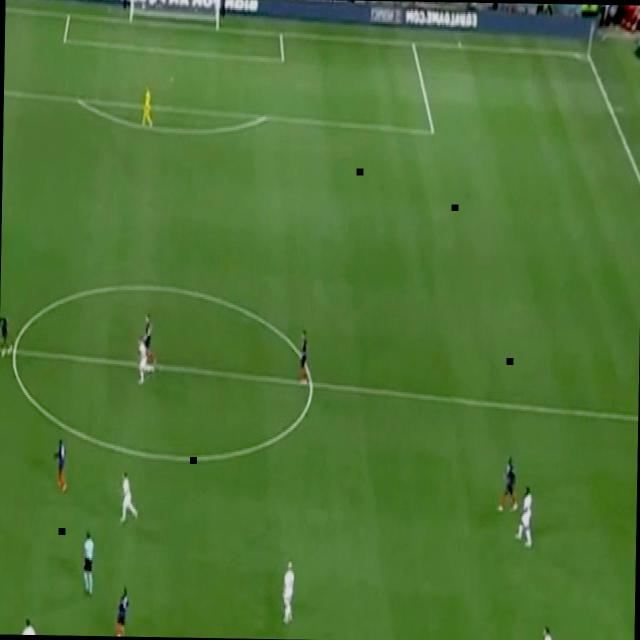player-white: (497, 452, 523, 516), (512, 481, 536, 550), (133, 330, 159, 393), (117, 466, 141, 530), (79, 526, 97, 600), (51, 432, 71, 498), (139, 308, 159, 372), (280, 556, 296, 626), (115, 579, 133, 637), (137, 80, 156, 134), (296, 325, 312, 389), (0, 310, 17, 360), (19, 612, 39, 635), (537, 616, 556, 640), (481, 639, 505, 640)
